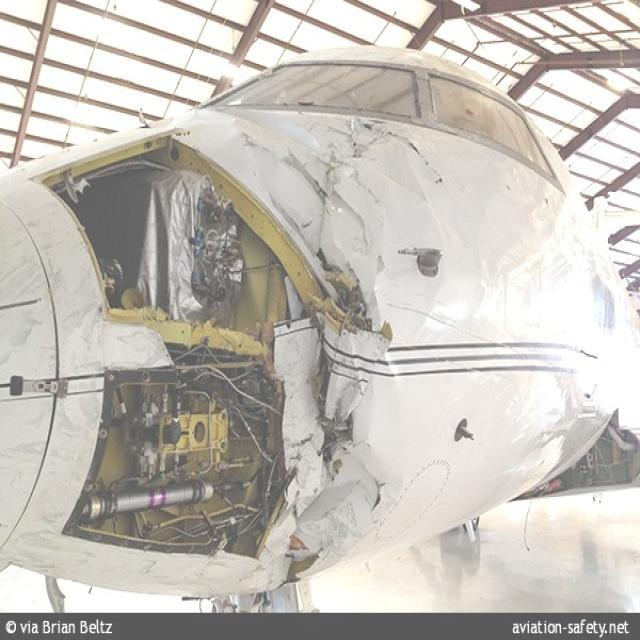crack: (359, 122, 448, 188), (342, 451, 391, 516)
